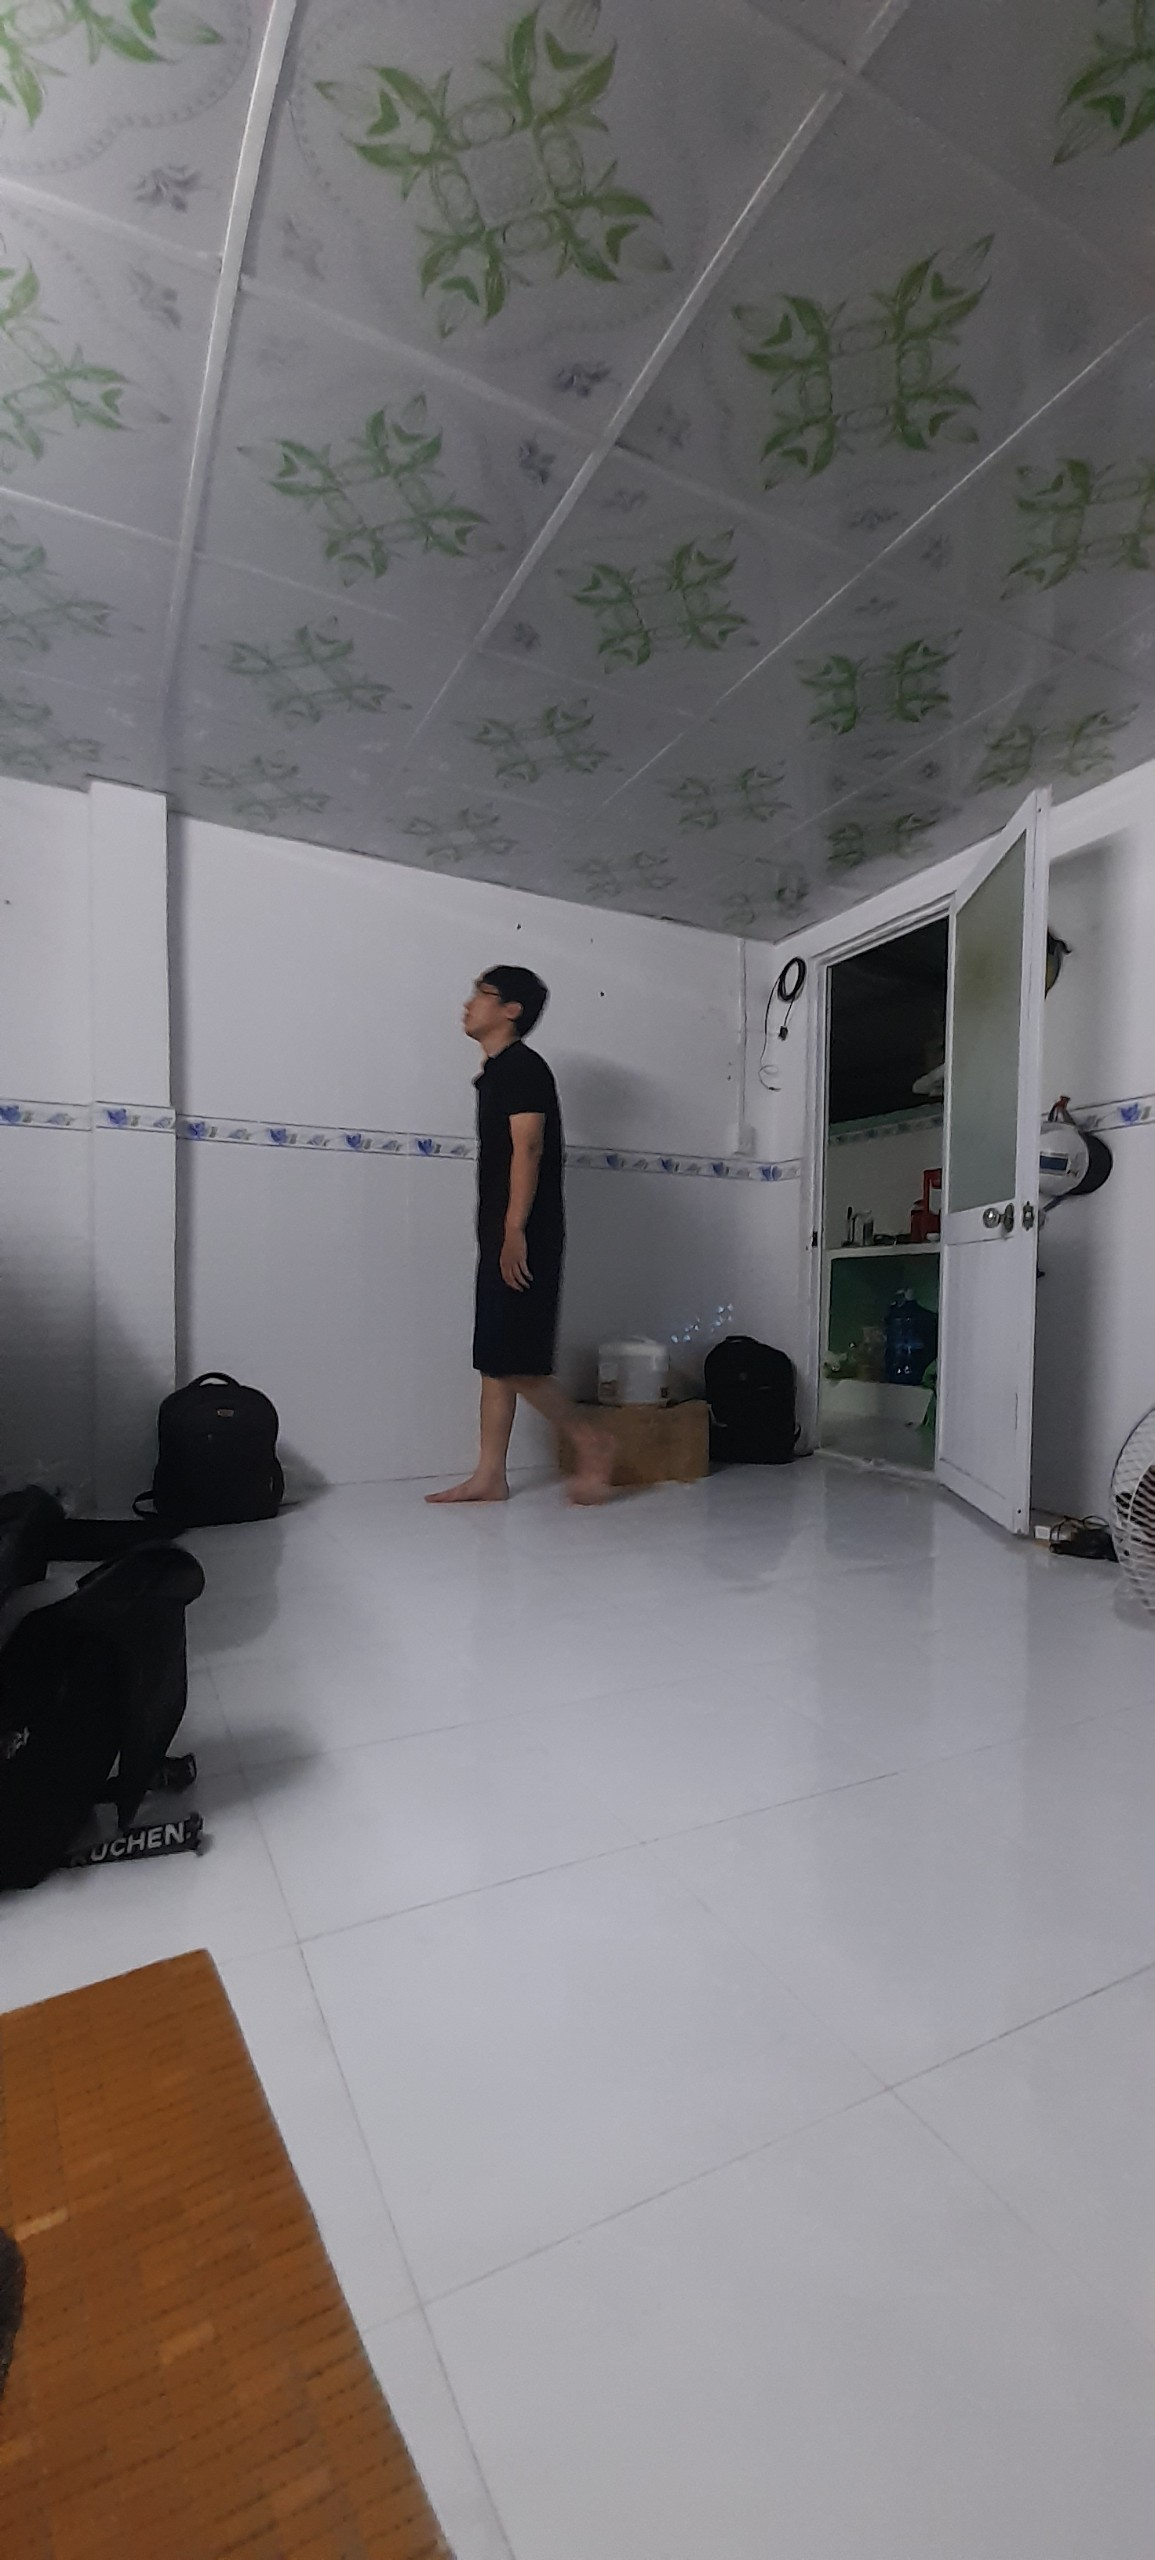person: (427, 963, 614, 1517)
